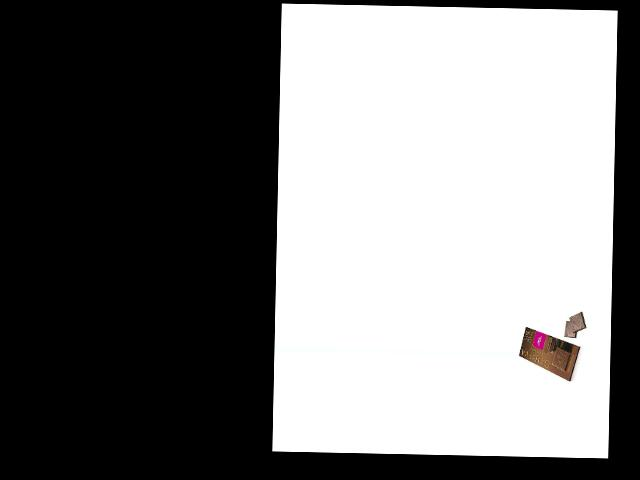chocolate: (517, 325, 581, 381)
